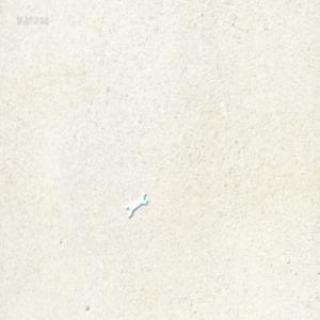Wrenchtrack_idkeyframe: (124, 191, 148, 218)
